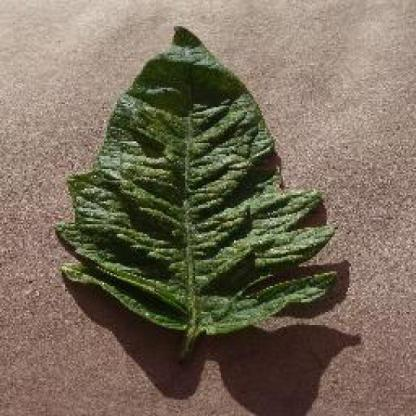Tomato_Spider_Mites: (56, 25, 339, 329)
